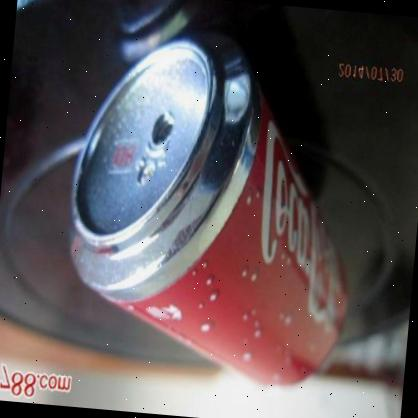can: (60, 29, 370, 397)
